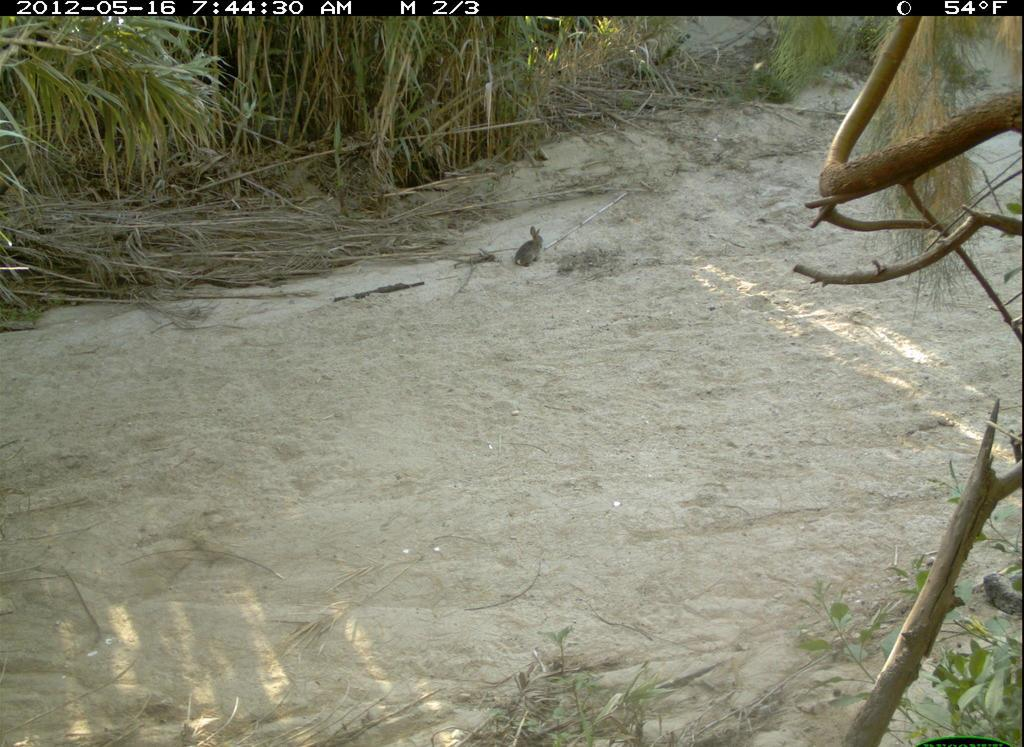rabbit: (514, 226, 550, 271)
